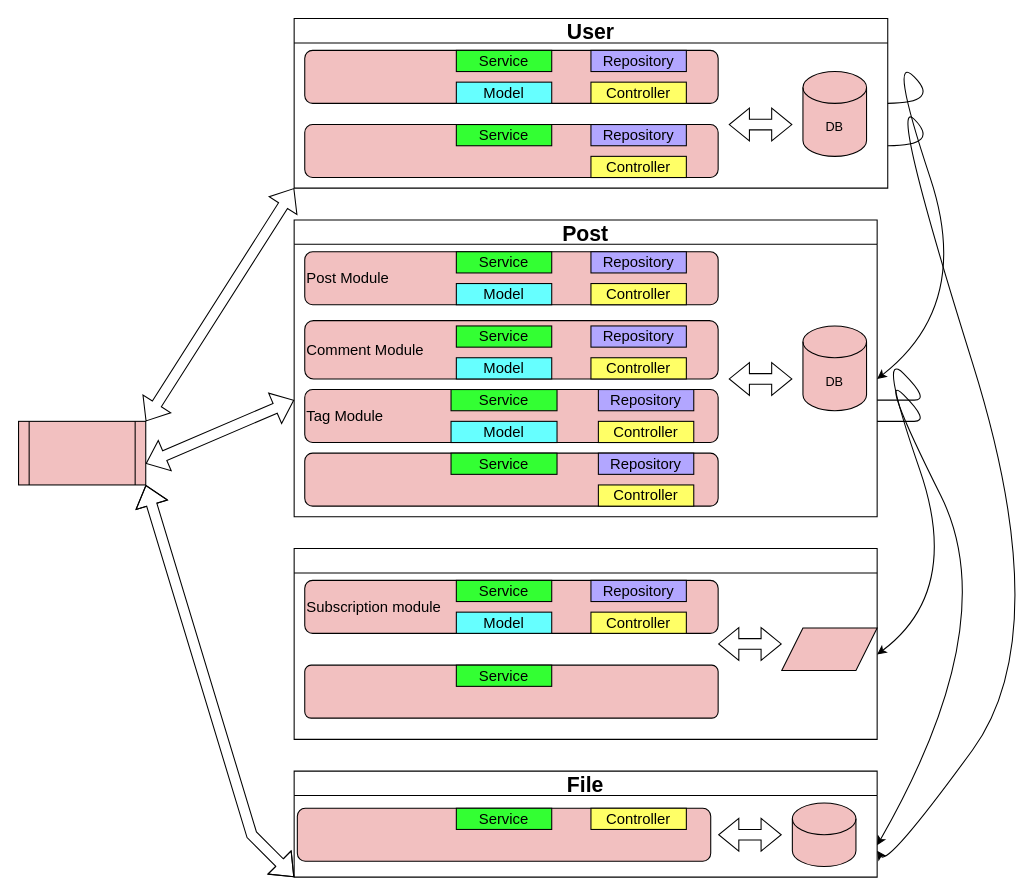
The diagram is 1034 pixels wide and 896 high, and some of its shapes have lost their labels. The box of each missing label's shape, as (x1, y1, x2, y2) in pixels:
Auth Module: (304, 123, 718, 178)
Client API: (17, 420, 146, 485)
File module: (296, 807, 711, 861)
Like Module: (304, 452, 718, 506)
Mail Module: (304, 664, 718, 718)
Message Broker: (781, 627, 877, 670)
Notification: (293, 547, 877, 739)
Storage: (791, 802, 856, 867)
User Module: (304, 49, 718, 103)
